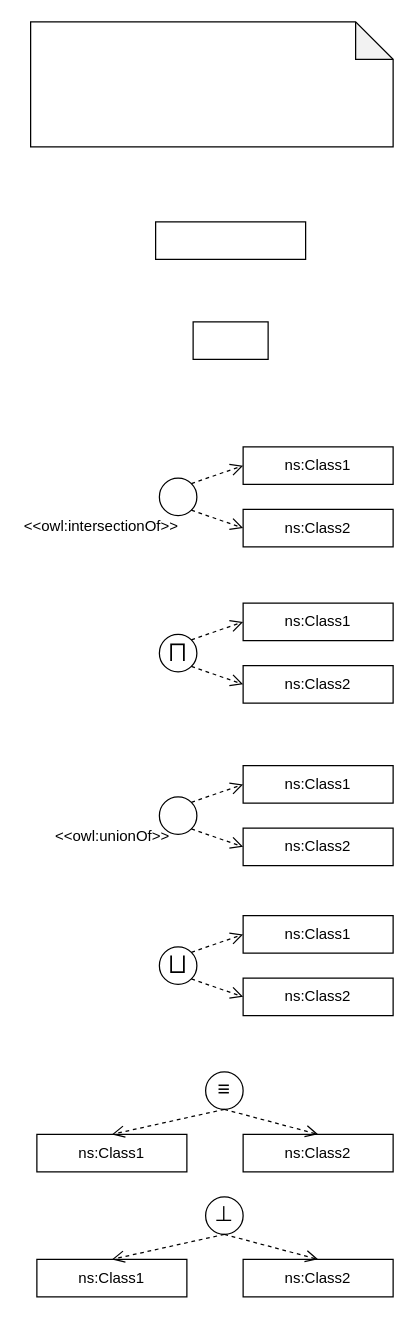
The diagram is 415 pixels wide and 1319 high, and some of its shapes have lost their labels. The box of each missing label's shape, as (x1, y1, x2, y2) in pixels:
base: http://theOntology.namespace.com saref: http://saref.com: (29, 21, 393, 147)
ns:Class: (154, 221, 306, 259)
